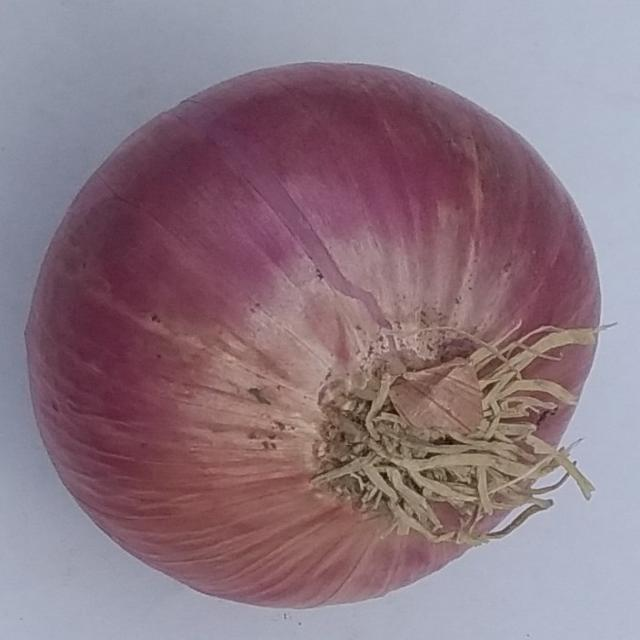onion: (22, 56, 617, 614)
